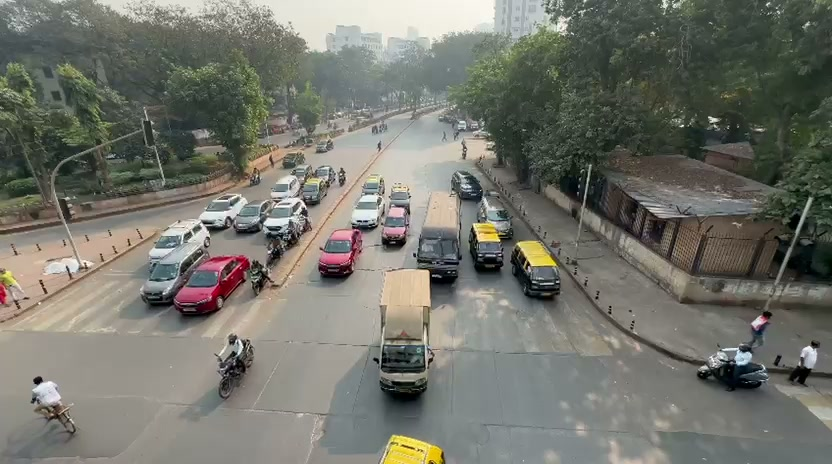bus: (375, 268, 433, 397)
car: (141, 219, 211, 305), (173, 255, 250, 317), (510, 239, 562, 299), (317, 229, 363, 277), (261, 200, 309, 242), (476, 193, 513, 239), (199, 194, 247, 229), (381, 206, 409, 247), (349, 198, 381, 230), (231, 204, 264, 234), (450, 171, 483, 200), (300, 176, 326, 206)
motorcycle: (696, 348, 770, 390), (215, 354, 246, 400), (247, 262, 267, 296)
pedestrian: (30, 375, 76, 434), (788, 341, 821, 386), (216, 333, 246, 377), (749, 310, 773, 349), (10, 243, 19, 256)
truck: (375, 268, 434, 397), (141, 220, 212, 305), (414, 190, 462, 282), (510, 239, 562, 298), (468, 223, 504, 271)
